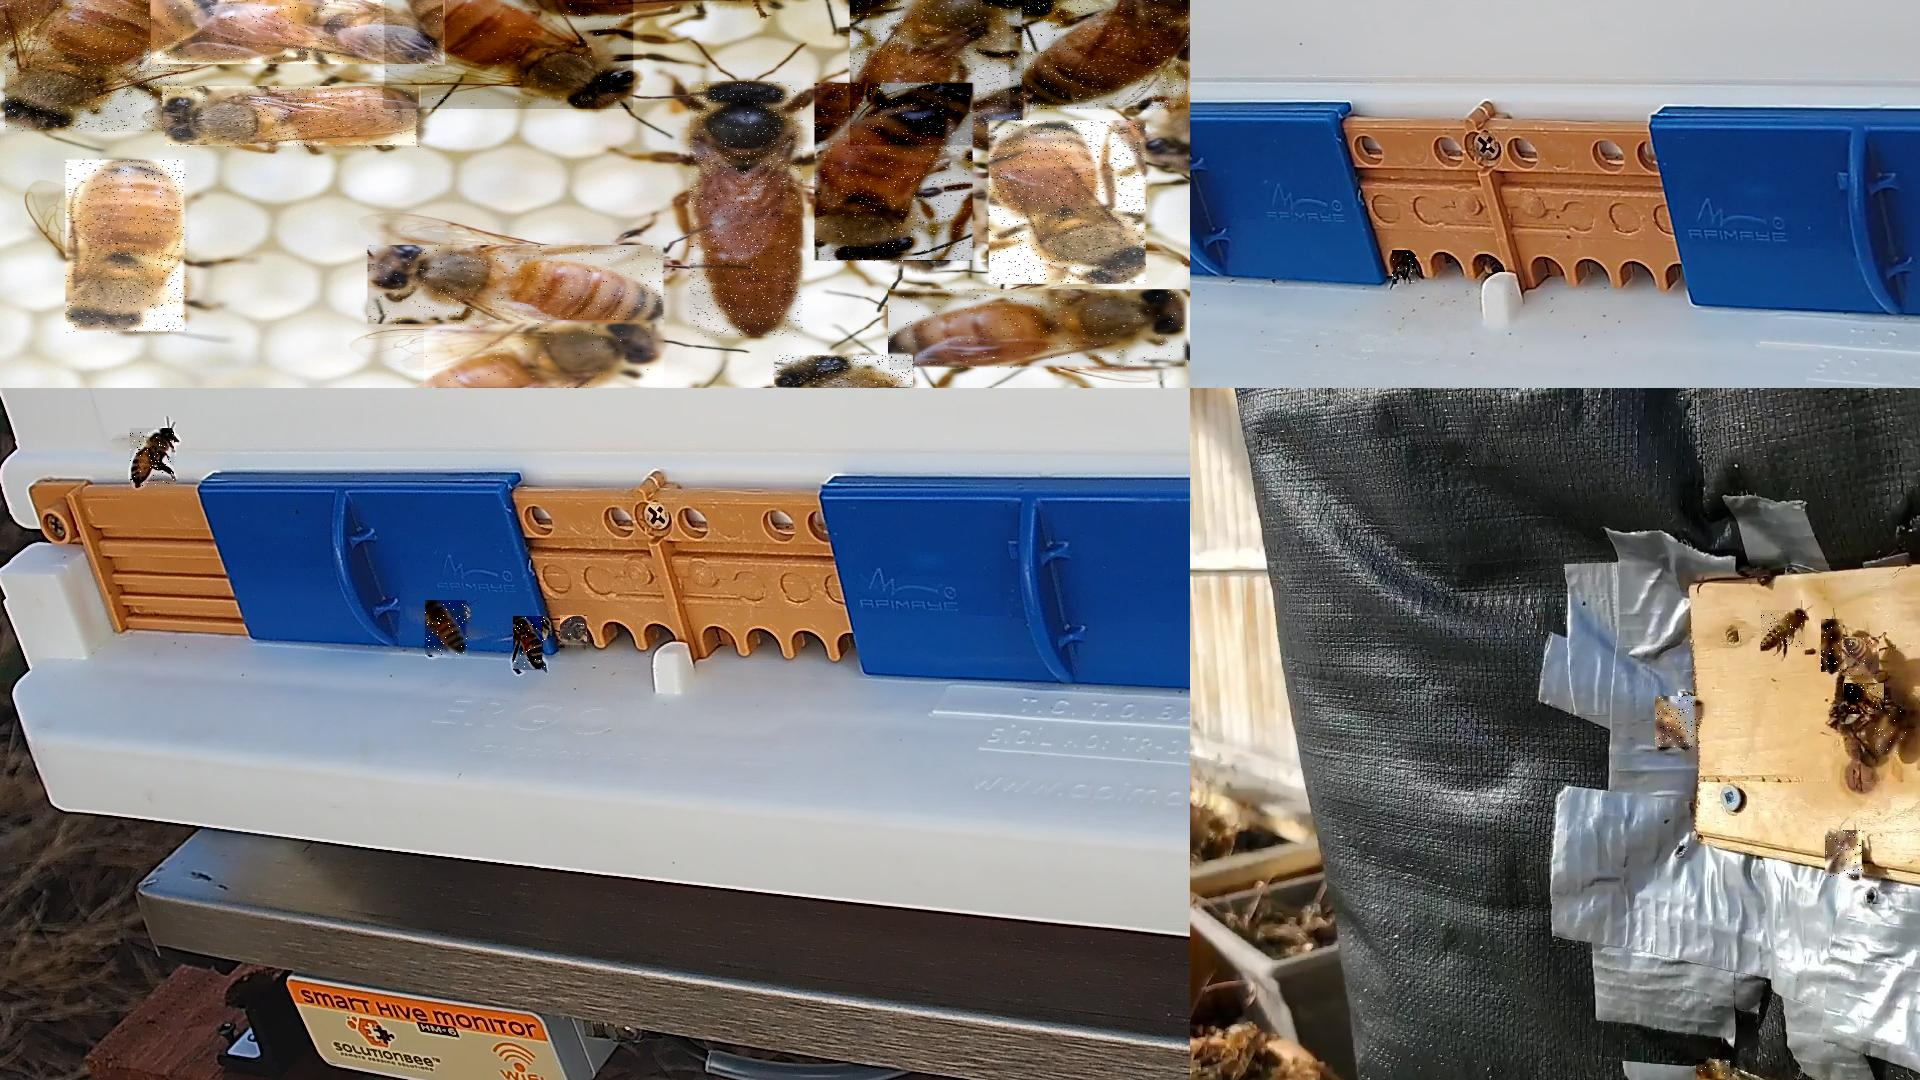bee: (815, 83, 973, 262), (384, 0, 636, 109), (989, 120, 1147, 285), (851, 0, 1025, 148), (889, 289, 1189, 371), (368, 245, 669, 324), (7, 0, 183, 132), (66, 161, 189, 334), (1010, 0, 1189, 109), (153, 0, 444, 65), (423, 320, 665, 388), (166, 86, 421, 148), (773, 356, 915, 388), (131, 429, 175, 488), (426, 601, 469, 658), (1656, 696, 1698, 748), (514, 617, 547, 674), (1825, 831, 1863, 880), (1760, 611, 1807, 647), (1842, 637, 1880, 676), (1875, 711, 1907, 756), (1845, 683, 1888, 715), (1821, 620, 1844, 674), (560, 616, 588, 649), (1393, 251, 1418, 285), (1696, 1059, 1731, 1079)
queen: (690, 82, 803, 338)
